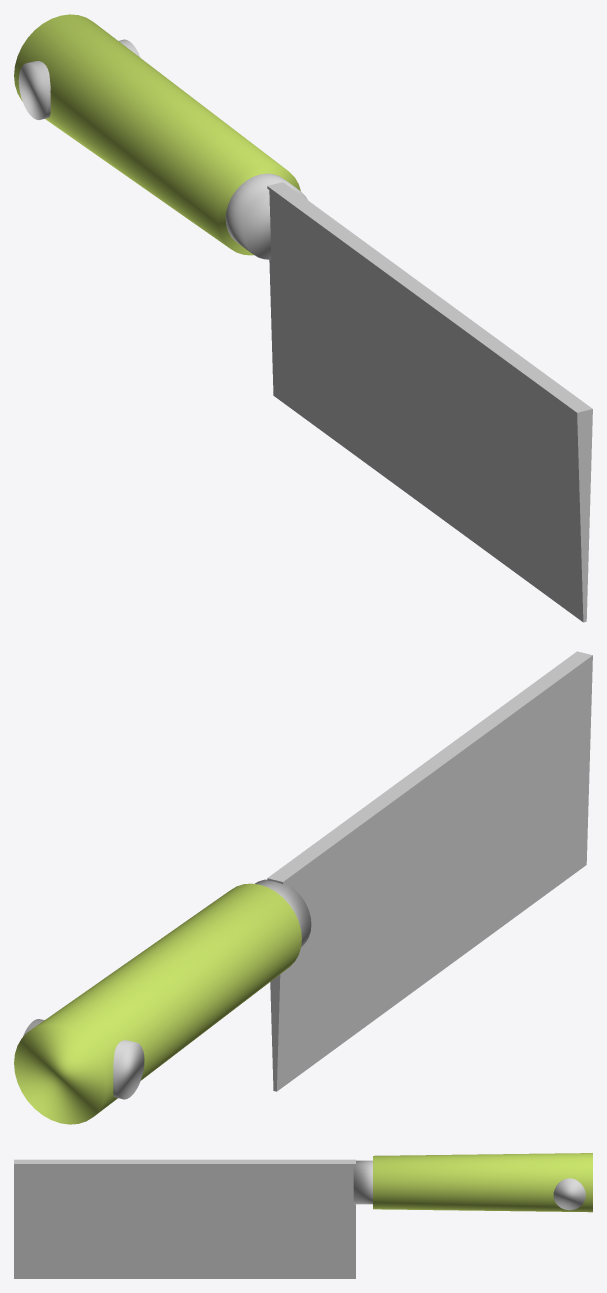
Rendered from knife.fbx.
The picture shows the model from 3 angles, top to bottom: view 1: azimuth 30°, elevation 25°; view 2: azimuth 150°, elevation 25°; view 3: azimuth 270°, elevation 25°; orthographic projection. The views are drawn at different scales.
Visible parts, largest first — view 1: Cylinder.034, Cylinder.032; view 2: Cylinder.034, Cylinder.032; view 3: Cylinder.034, Cylinder.032.
Part boxes in pixels (<box>): Cylinder.034: <box>18,39,592,622</box>; Cylinder.032: <box>14,14,300,255</box>; Cylinder.034: <box>23,651,592,1099</box>; Cylinder.032: <box>14,883,301,1124</box>; Cylinder.034: <box>14,1159,585,1278</box>; Cylinder.032: <box>373,1153,592,1212</box>.
Size of the model in its own units: 45.96 by 101 by 433.
